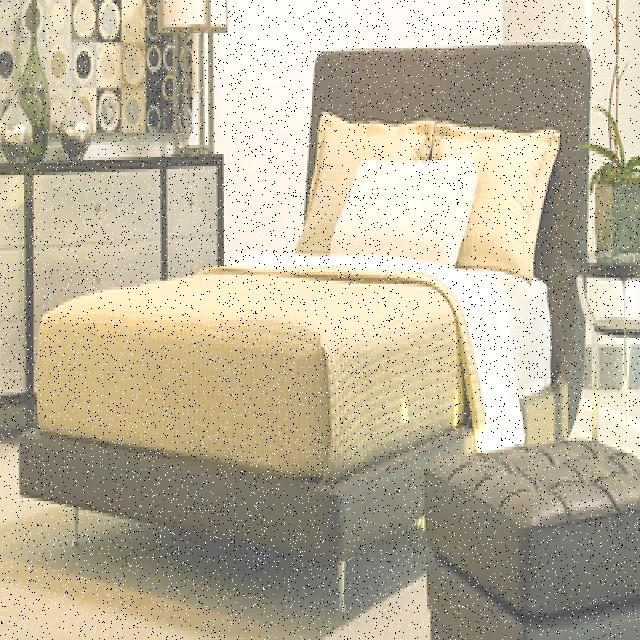bed: (24, 28, 592, 578)
